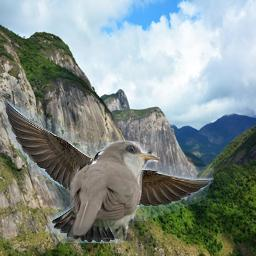Cuckoo: (66, 140, 159, 242)
Swallow: (1, 97, 214, 243)
